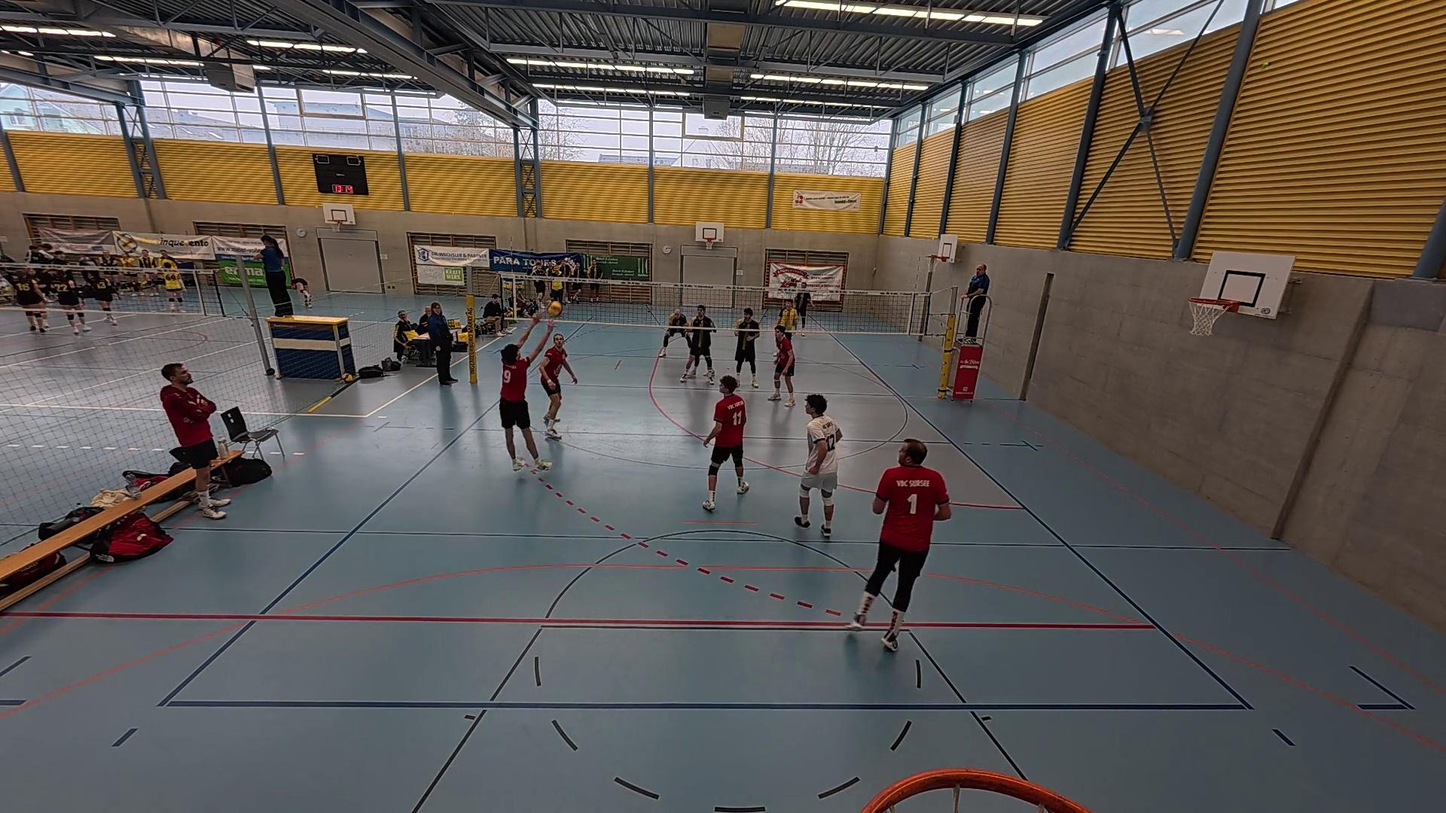ricezione: (494, 314, 554, 473)
